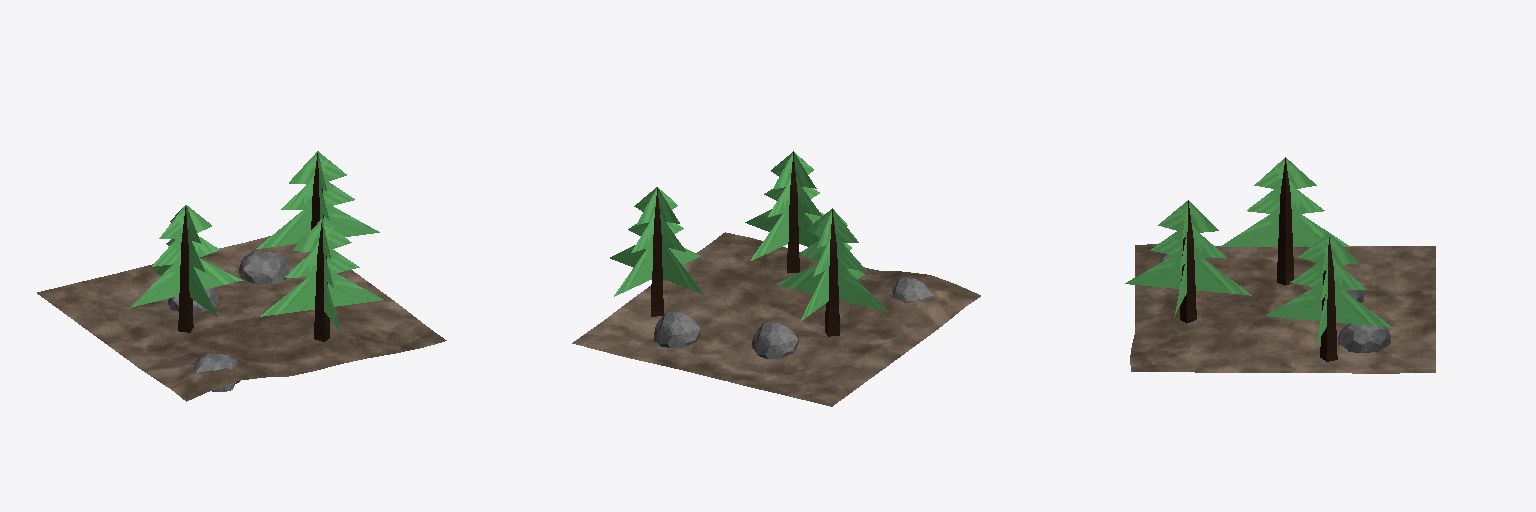
The picture shows the model from 3 angles: view 1: azimuth 30°, elevation 25°; view 2: azimuth 150°, elevation 25°; view 3: azimuth 270°, elevation 25°; orthographic projection.
Parts seen in each view (by area): view 1: ground, tree2, tree1, tree3, rock, rock1; view 2: ground, tree1, tree3, tree2, rock2, rock, rock1; view 3: ground, tree3, tree2, tree1, rock.
Part boxes in pixels (bbox=[...]): ground: bbox=[37, 236, 446, 401]; tree2: bbox=[260, 219, 383, 341]; tree1: bbox=[130, 205, 242, 332]; tree3: bbox=[256, 151, 379, 252]; rock: bbox=[239, 251, 288, 284]; rock1: bbox=[193, 354, 239, 391]; ground: bbox=[572, 232, 980, 406]; tree1: bbox=[776, 208, 888, 336]; tree3: bbox=[610, 187, 704, 316]; tree2: bbox=[745, 151, 824, 273]; rock2: bbox=[752, 321, 798, 358]; rock: bbox=[654, 311, 700, 347]; rock1: bbox=[892, 277, 933, 302]; ground: bbox=[1130, 244, 1435, 373]; tree3: bbox=[1266, 232, 1392, 361]; tree2: bbox=[1125, 200, 1251, 323]; tree1: bbox=[1221, 157, 1350, 285]; rock: bbox=[1338, 324, 1390, 352].
Bounding box in the file's own units: 109 × 48.57 × 104.
Materials: 1 (1 with a texture image).